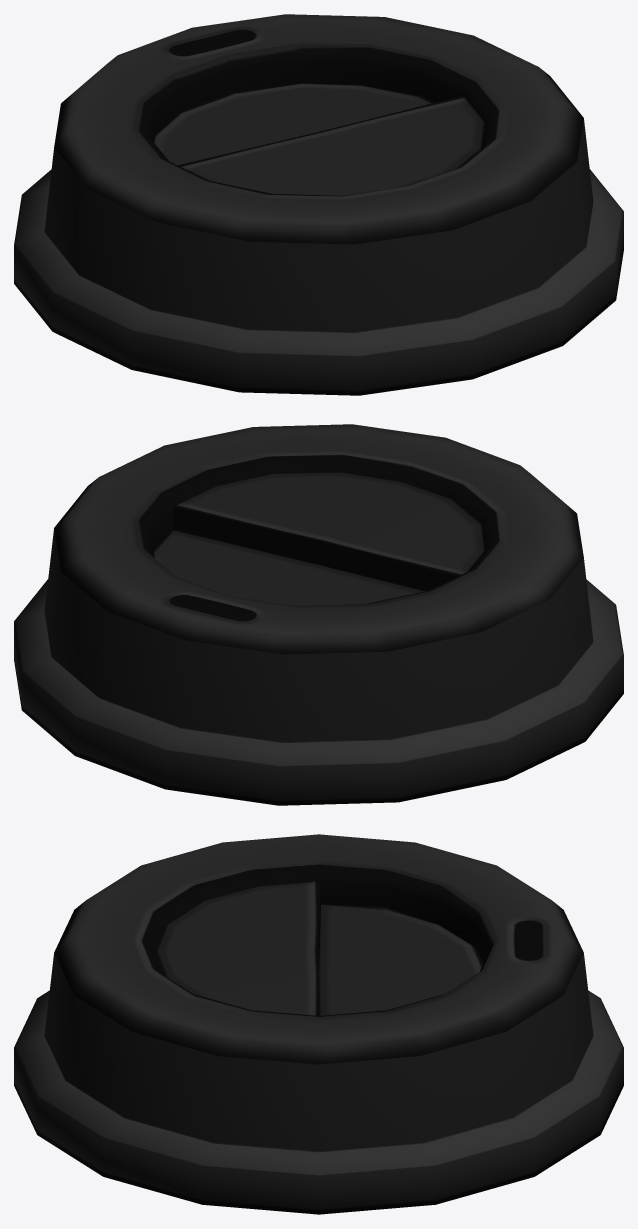
Rendered from ToGo_Lid_01.fbx.
The picture shows the model from 3 angles, top to bottom: view 1: azimuth 30°, elevation 25°; view 2: azimuth 150°, elevation 25°; view 3: azimuth 270°, elevation 25°; orthographic projection.
Visible parts, largest first — view 1: ToGo_Lid_01; view 2: ToGo_Lid_01; view 3: ToGo_Lid_01.
Boxes of the visible parts, bbox=[...] form: ToGo_Lid_01: bbox=[14, 14, 623, 395]; ToGo_Lid_01: bbox=[14, 424, 623, 805]; ToGo_Lid_01: bbox=[14, 834, 623, 1214].
Size of the model in its own units: 40.9 by 10.72 by 40.9.
